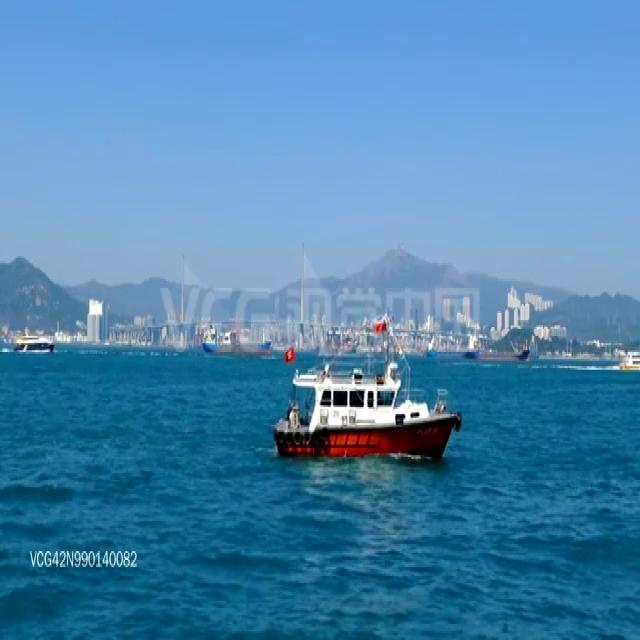houseboat: (273, 362, 458, 460), (14, 333, 56, 352), (618, 350, 640, 370)
